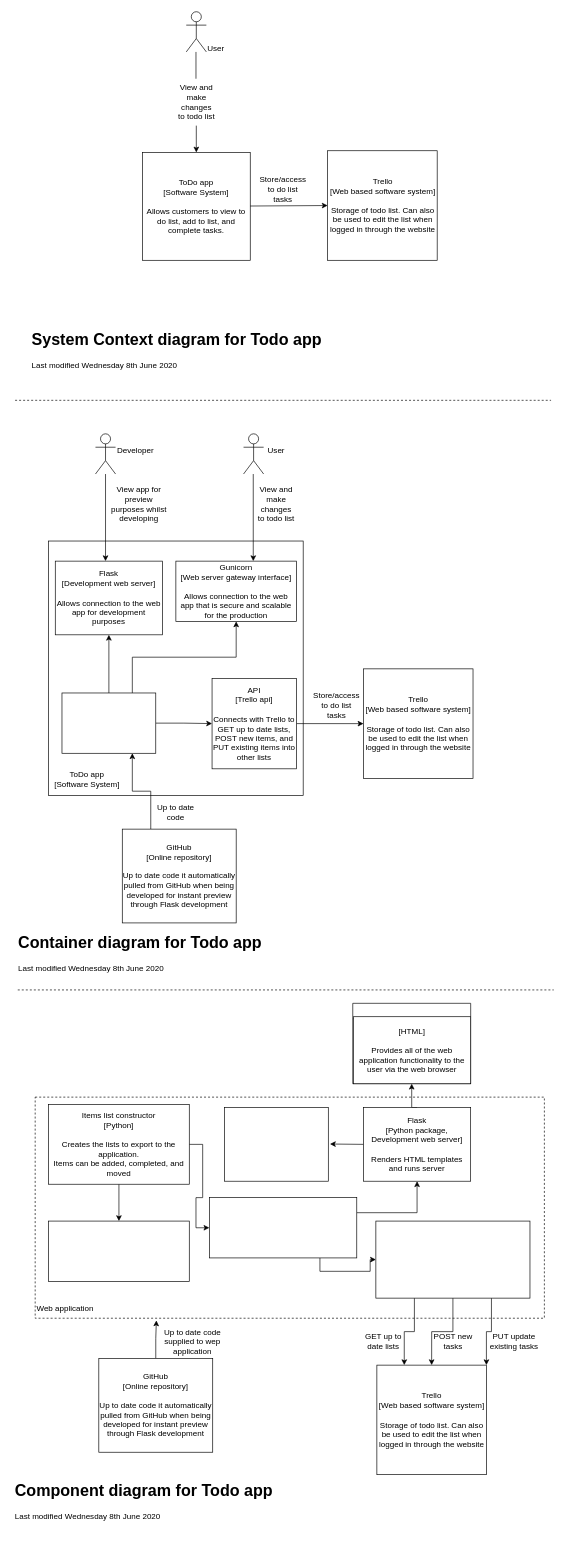
Some shapes in this 566 by 1550 pixel diagram are drawn without their labels. The shapes that lost their labels are listed below. From the top down, each one's box as (x1, y1, x2, y2) in pixels, then its label:
(61, 692, 156, 753): Web Application [Container: Python] Provides all of the todo app functionality
(352, 1003, 471, 1084): Multi page Application
(224, 1107, 328, 1181): HTML templates [HTML] Layout templates for the web app. To be rendered by flask
(209, 1197, 357, 1258): Poetry [Dependancy management]
(48, 1220, 189, 1281): Items [Python list] Items all stored in a list for local backup
(375, 1220, 530, 1298): Requests [Python package, Web requests ] Used for API requests to Trello
